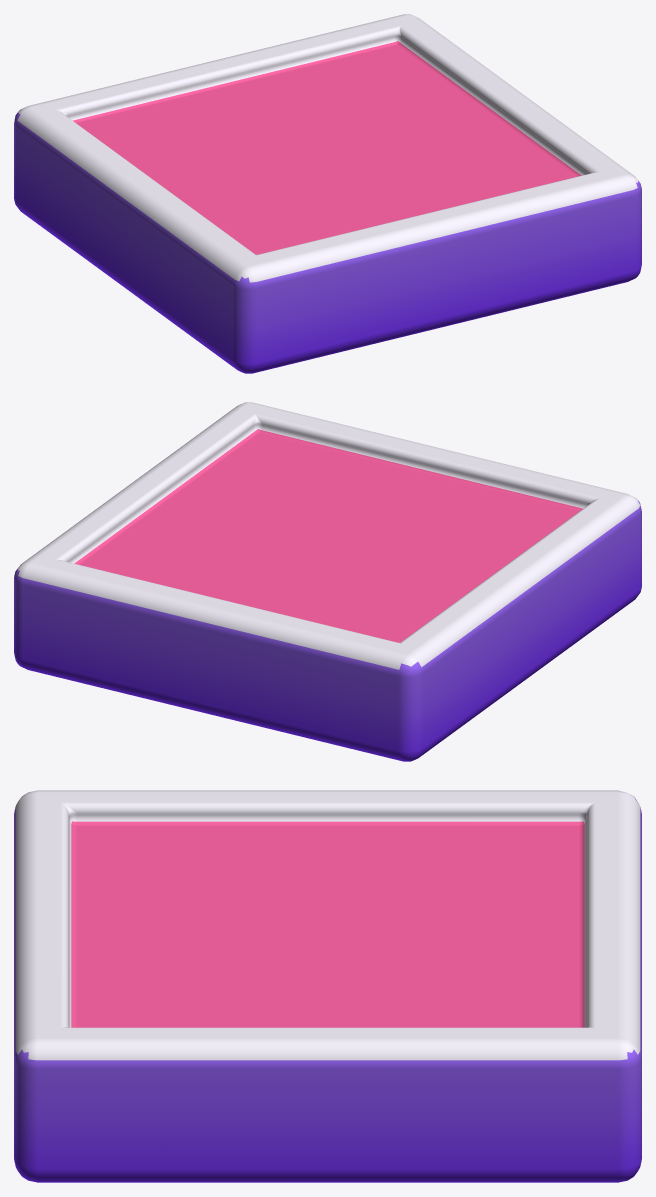
The model's file is platform_4x4.glb.
3 views of the same model, one above another, from view 1: azimuth 30°, elevation 25°; view 2: azimuth 150°, elevation 25°; view 3: azimuth 270°, elevation 25° (orthographic). The views are drawn at different scales.
Parts seen in each view (by area): view 1: platform_4x4; view 2: platform_4x4; view 3: platform_4x4.
Part boxes in pixels (x1,y1,x2,y2): platform_4x4: [14, 14, 641, 373]; platform_4x4: [14, 402, 641, 761]; platform_4x4: [14, 790, 641, 1182].
Size of the model in its own units: 4 by 1 by 4.
1 material, 1 textured.
